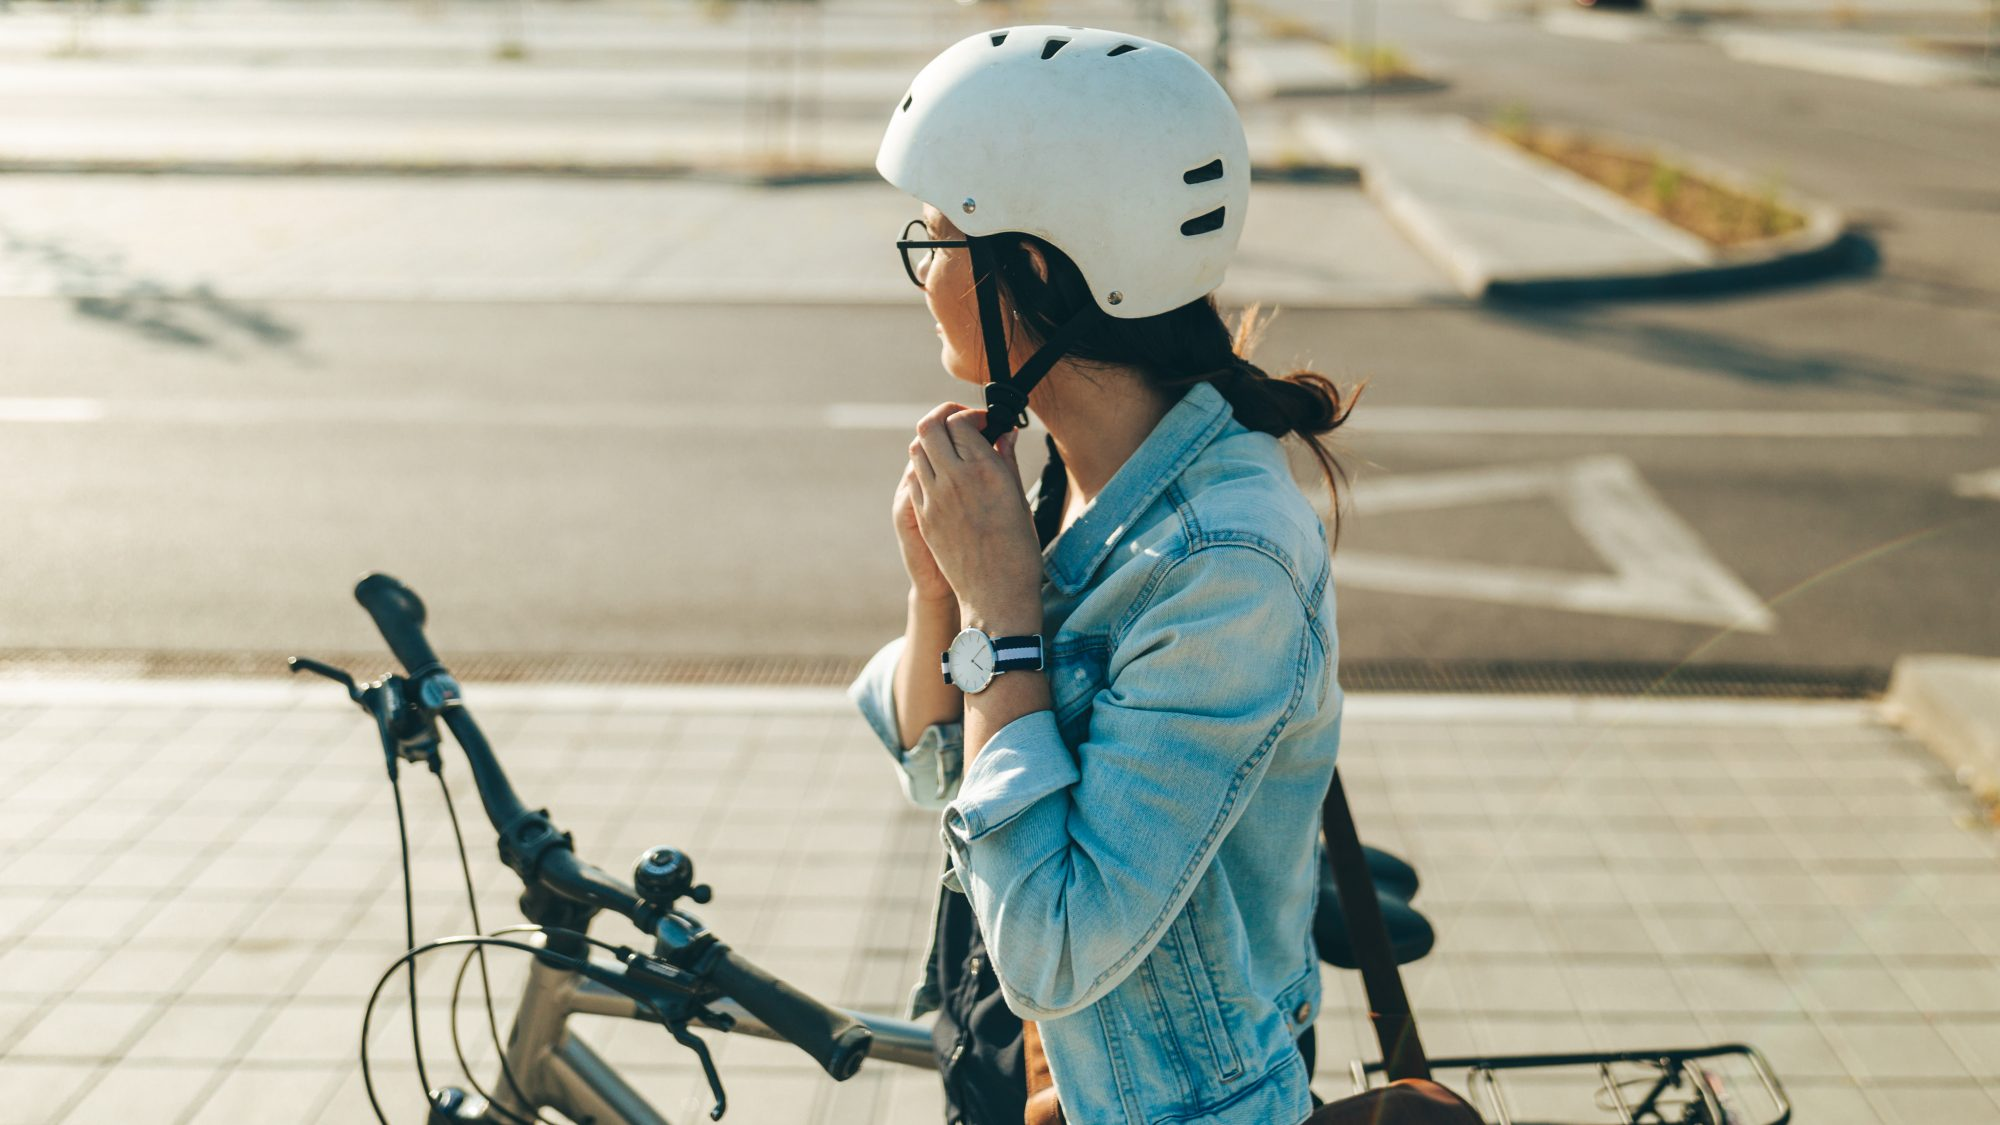helmet: (874, 26, 1253, 387)
